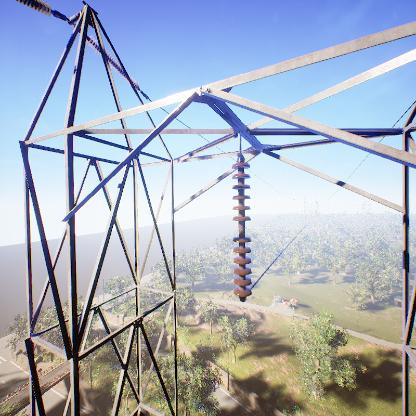insulator: (229, 161, 255, 299)
